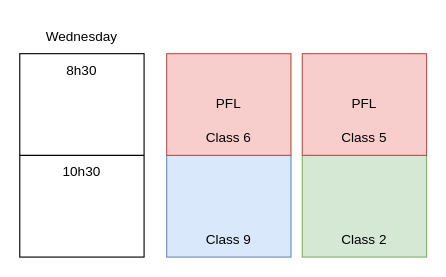
The diagram is 446 pixels wide and 277 high, and some of its shapes have lost their labels. Each missing label, with the box of its shape:
FSI: (301, 154, 427, 257)
LBAW: (166, 154, 291, 257)
